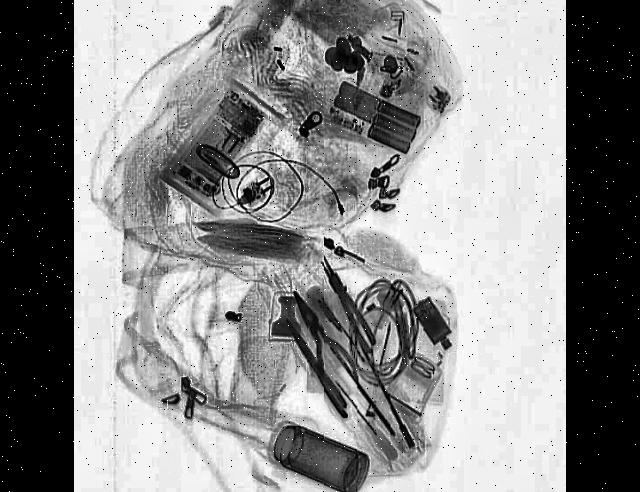Pliers: (280, 273, 360, 403), (281, 311, 351, 420), (316, 252, 378, 356)
